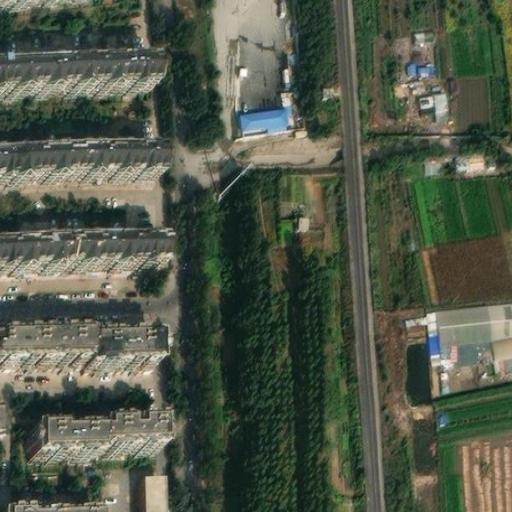building: (0, 149, 155, 185), (0, 238, 155, 271), (0, 62, 151, 95), (426, 303, 512, 342), (440, 335, 512, 372), (0, 336, 87, 365), (28, 430, 101, 463), (87, 342, 159, 372), (101, 428, 161, 456), (9, 499, 105, 512), (238, 104, 285, 128), (414, 89, 448, 122), (404, 60, 435, 79), (141, 489, 163, 512)
